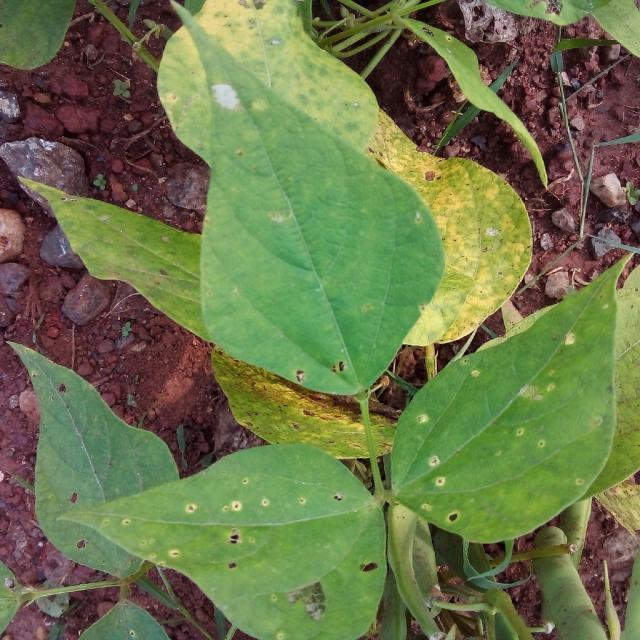mozaik: (0, 374, 549, 606)
